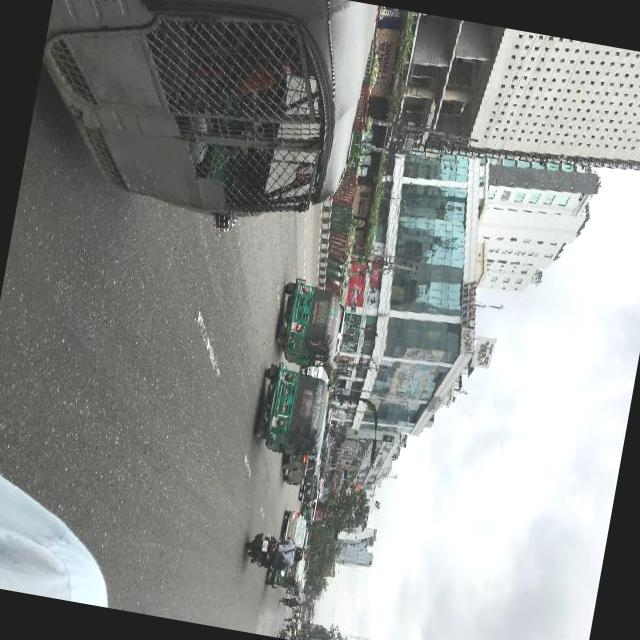bus: (318, 430, 334, 461), (322, 408, 334, 431)
car: (278, 508, 308, 546), (298, 476, 318, 506)
motorcycle: (17, 0, 380, 256), (269, 276, 346, 372), (252, 368, 332, 460), (239, 528, 279, 573), (262, 560, 305, 592), (300, 506, 314, 520), (284, 584, 300, 596)
